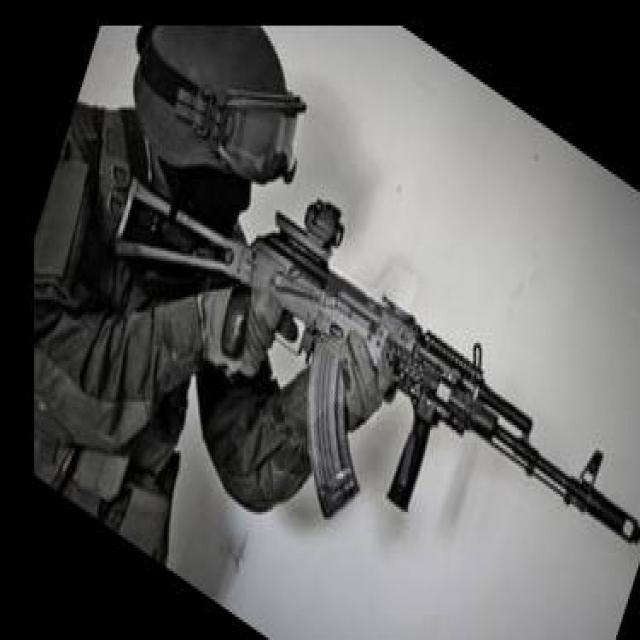weapon: (110, 172, 640, 548)
